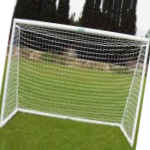goals: (1, 17, 149, 150)
